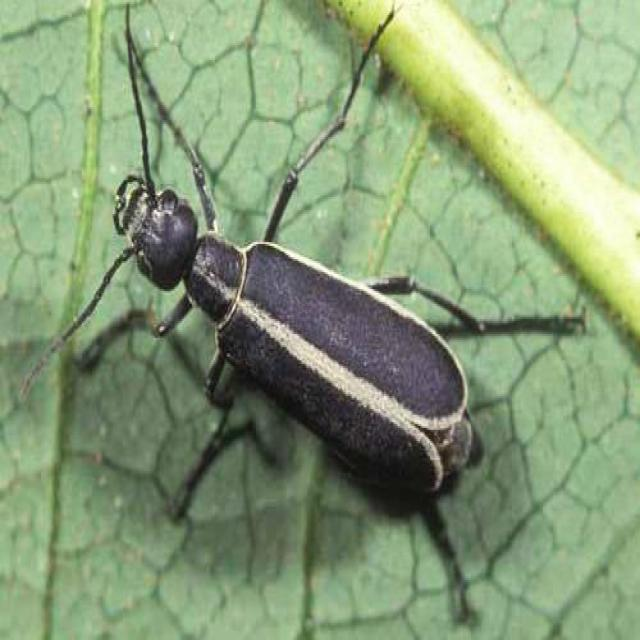BlisterBeetle-Adult-: (56, 7, 594, 543)
